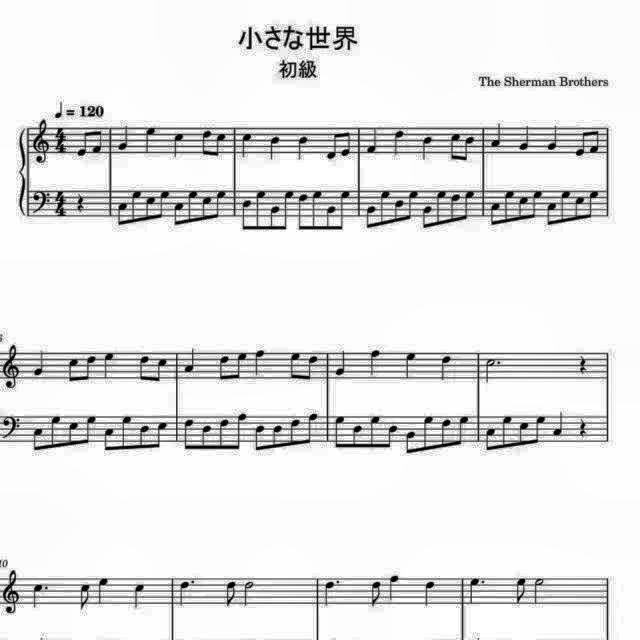Bass-clef: (0, 411, 24, 442), (28, 190, 48, 218)
Eighth-note: (252, 188, 268, 232), (338, 188, 354, 232), (74, 580, 94, 614), (234, 411, 250, 453), (378, 188, 394, 228), (420, 412, 436, 452), (294, 190, 310, 230), (310, 188, 324, 232), (322, 128, 340, 162), (366, 412, 382, 450), (500, 188, 516, 226), (406, 188, 422, 224), (456, 412, 472, 448), (332, 414, 348, 450), (184, 187, 200, 223), (180, 416, 196, 452), (532, 412, 548, 448), (223, 578, 241, 610), (513, 573, 531, 605), (129, 186, 145, 222), (365, 578, 383, 610), (306, 410, 322, 446), (460, 188, 476, 224), (119, 412, 133, 452), (433, 188, 447, 228), (214, 352, 232, 383), (82, 413, 98, 447), (155, 418, 171, 452), (572, 126, 588, 160), (528, 188, 544, 222), (586, 188, 602, 222), (49, 413, 63, 451), (500, 414, 514, 451), (559, 190, 573, 227), (286, 416, 302, 448), (212, 190, 228, 222), (136, 350, 152, 382), (587, 124, 603, 156), (286, 350, 302, 382), (28, 422, 44, 454), (234, 350, 250, 382), (440, 414, 454, 450), (216, 415, 230, 451), (446, 128, 460, 164), (282, 188, 294, 230), (516, 417, 532, 447), (350, 421, 366, 451), (254, 423, 270, 453), (64, 354, 80, 384), (212, 129, 228, 159), (82, 353, 98, 383), (239, 197, 253, 231), (200, 125, 214, 158), (158, 190, 172, 222), (101, 426, 117, 454), (384, 422, 400, 450), (404, 427, 420, 455), (155, 356, 171, 384), (462, 132, 476, 164), (114, 200, 130, 228), (484, 426, 500, 454), (362, 202, 378, 230), (450, 190, 462, 226), (201, 421, 215, 451), (271, 421, 285, 451), (66, 419, 80, 449), (91, 126, 105, 156), (138, 421, 152, 451), (75, 128, 89, 158), (304, 353, 318, 383), (517, 194, 531, 222), (543, 201, 557, 229), (172, 200, 186, 228), (392, 198, 406, 226), (488, 200, 502, 228), (420, 203, 434, 231), (342, 128, 354, 160), (144, 192, 156, 224), (572, 193, 584, 223), (202, 193, 214, 223), (270, 204, 282, 232), (324, 204, 336, 232)
Half-dot: (482, 355, 506, 385)
Half-note: (240, 578, 258, 610), (530, 576, 546, 606)
Quarter-dot: (26, 578, 52, 610), (465, 572, 487, 608), (321, 578, 344, 610), (175, 576, 198, 608)
Quarter-note: (438, 351, 458, 382), (402, 348, 422, 379), (95, 576, 114, 608), (130, 581, 150, 611), (389, 126, 407, 158), (421, 578, 439, 610), (31, 347, 49, 378), (364, 126, 381, 158), (418, 132, 436, 162), (365, 347, 383, 377), (333, 347, 351, 377), (250, 347, 268, 377), (544, 122, 560, 154), (142, 124, 158, 156), (170, 130, 187, 160), (488, 122, 506, 150), (102, 348, 118, 379), (294, 133, 310, 163), (517, 123, 533, 153), (550, 410, 566, 440), (386, 573, 402, 603), (240, 130, 256, 158), (114, 124, 130, 152), (182, 346, 198, 374), (268, 134, 284, 162)
Quarter-rest: (574, 350, 590, 376), (574, 414, 590, 438), (74, 191, 88, 215)
Treble-clef: (31, 117, 54, 167), (1, 342, 23, 392), (0, 568, 22, 618)
